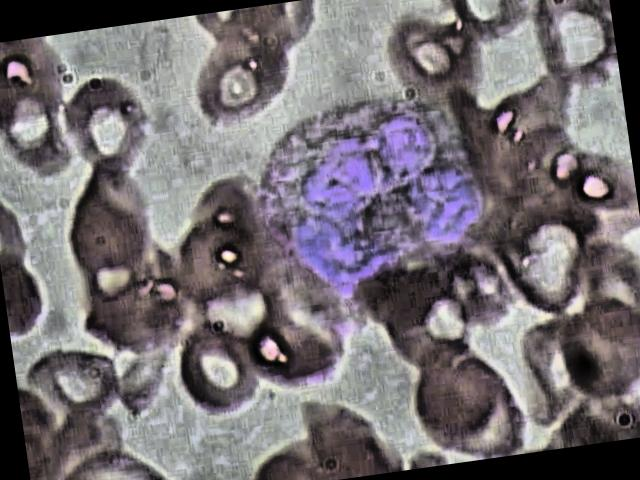RBC: (398, 337, 534, 467), (186, 12, 306, 132), (66, 167, 164, 298), (59, 68, 158, 184), (387, 7, 485, 110), (504, 215, 593, 319), (174, 322, 264, 422), (26, 338, 122, 429), (558, 295, 640, 398), (534, 0, 616, 85)
WBC: (245, 88, 510, 342)
